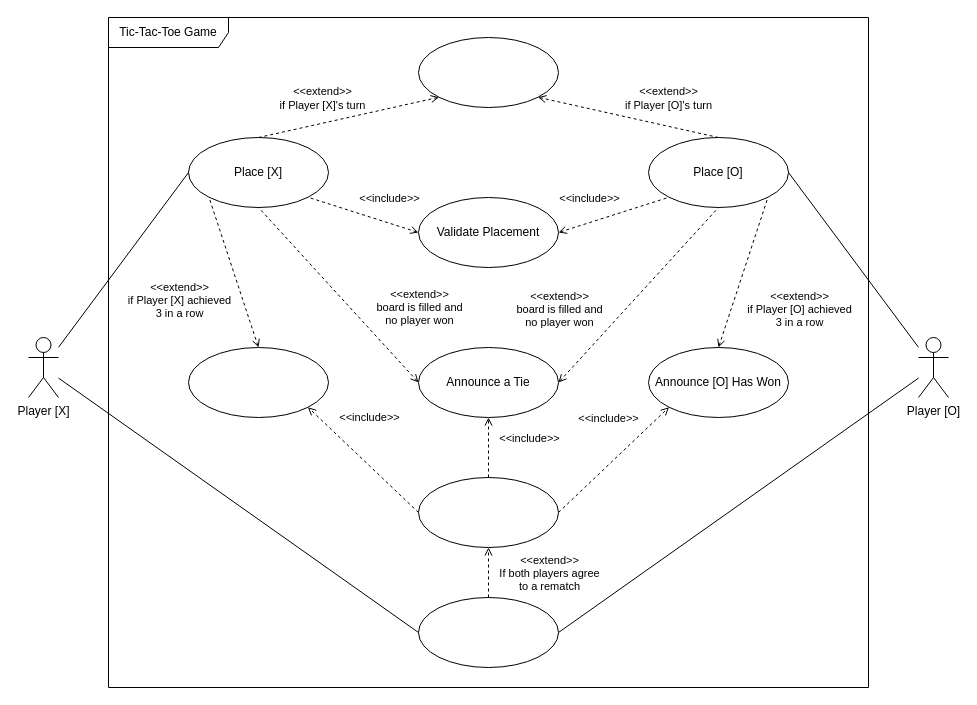
This 977x705 diagram has some shape labels left out. The shapes that lost their labels are listed below. From the top down, each one's box as (x1, y1, x2, y2) in pixels, then its label:
(418, 36, 558, 108): Track Player Order
(188, 346, 328, 418): Announce [X] Has Won
(418, 476, 558, 548): End Game
(418, 596, 558, 668): Reset Game
